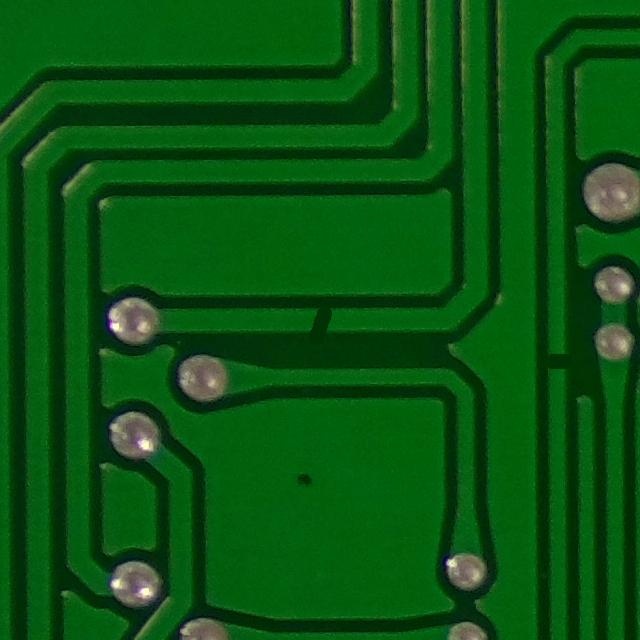open_circuit: (298, 298, 342, 342)
